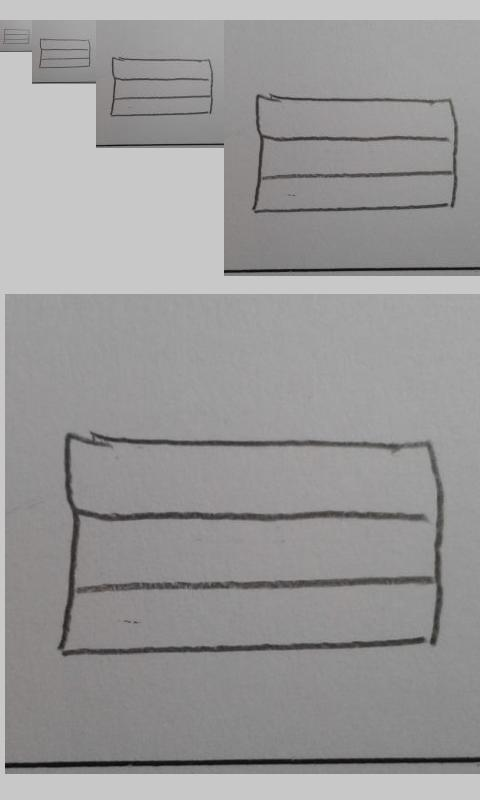list_view: (58, 429, 445, 662), (250, 91, 459, 215), (110, 55, 214, 117), (39, 38, 91, 69), (3, 28, 30, 45)
